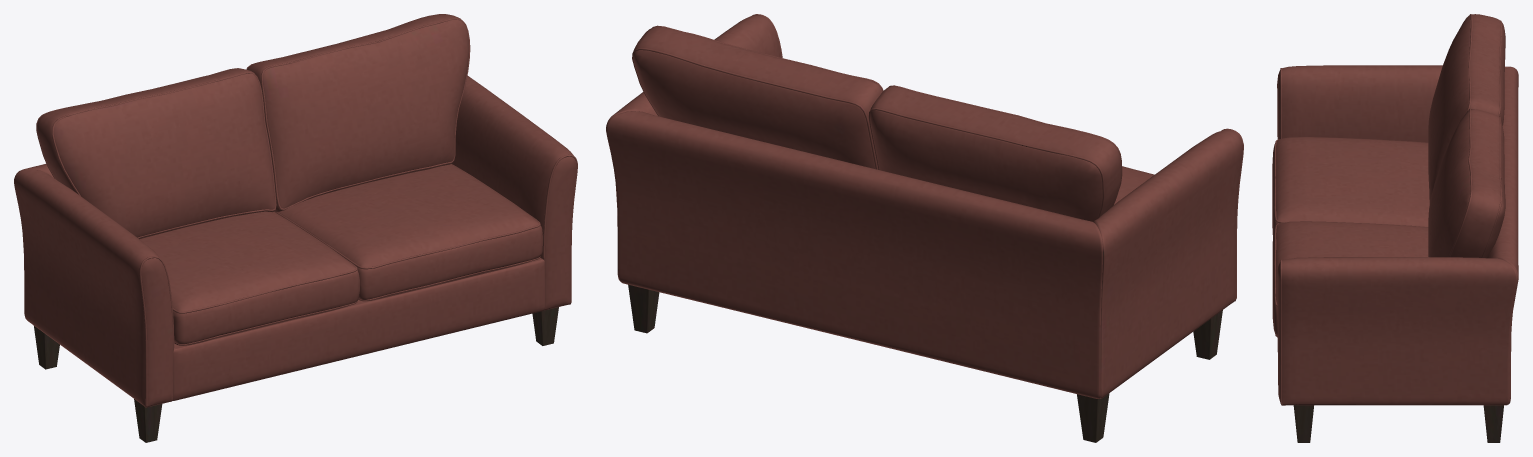
Rendered from ekholma_sofa_2_osobowa_59535590.glb.
The picture shows the model from 3 angles, left to right: view 1: azimuth 30°, elevation 25°; view 2: azimuth 150°, elevation 25°; view 3: azimuth 270°, elevation 25°; orthographic projection. The views are drawn at different scales.
Visible parts, largest first — view 1: ekholma_sofa_2_osobowa_59535590; view 2: ekholma_sofa_2_osobowa_59535590; view 3: ekholma_sofa_2_osobowa_59535590.
Boxes of the visible parts, <box> form: ekholma_sofa_2_osobowa_59535590: <box>14,14,577,442</box>; ekholma_sofa_2_osobowa_59535590: <box>606,14,1243,442</box>; ekholma_sofa_2_osobowa_59535590: <box>1272,14,1518,442</box>.
Size of the model in its own units: 1.67 by 0.9399 by 0.85.
Materials: 1 (1 with a texture image).
